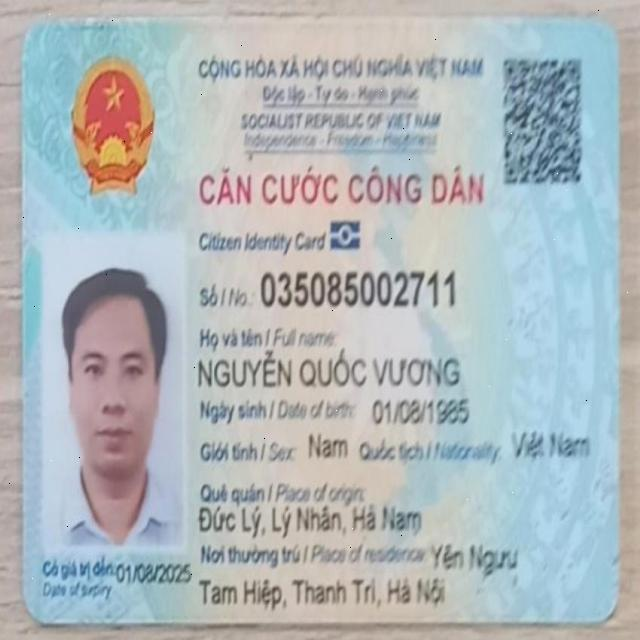current_place: (197, 572, 453, 610), (429, 538, 520, 578)
dob: (372, 395, 471, 427)
expire_date: (114, 558, 195, 588)
gender: (304, 431, 352, 461)
id: (259, 272, 458, 310)
name: (195, 350, 461, 395)
nationality: (506, 425, 595, 467)
origin_place: (197, 503, 428, 541)
